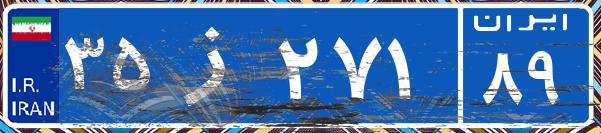1: (385, 28, 445, 110)
2: (273, 28, 330, 110)
3: (57, 26, 110, 107)
5: (110, 28, 158, 105)
7: (330, 28, 385, 110)
8: (475, 38, 525, 113)
9: (525, 38, 570, 115)
ز: (158, 15, 273, 115)
